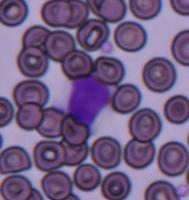L: (65, 75, 114, 126)
